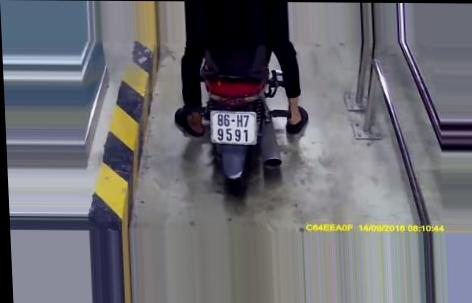License_Plate: (203, 106, 263, 150)
